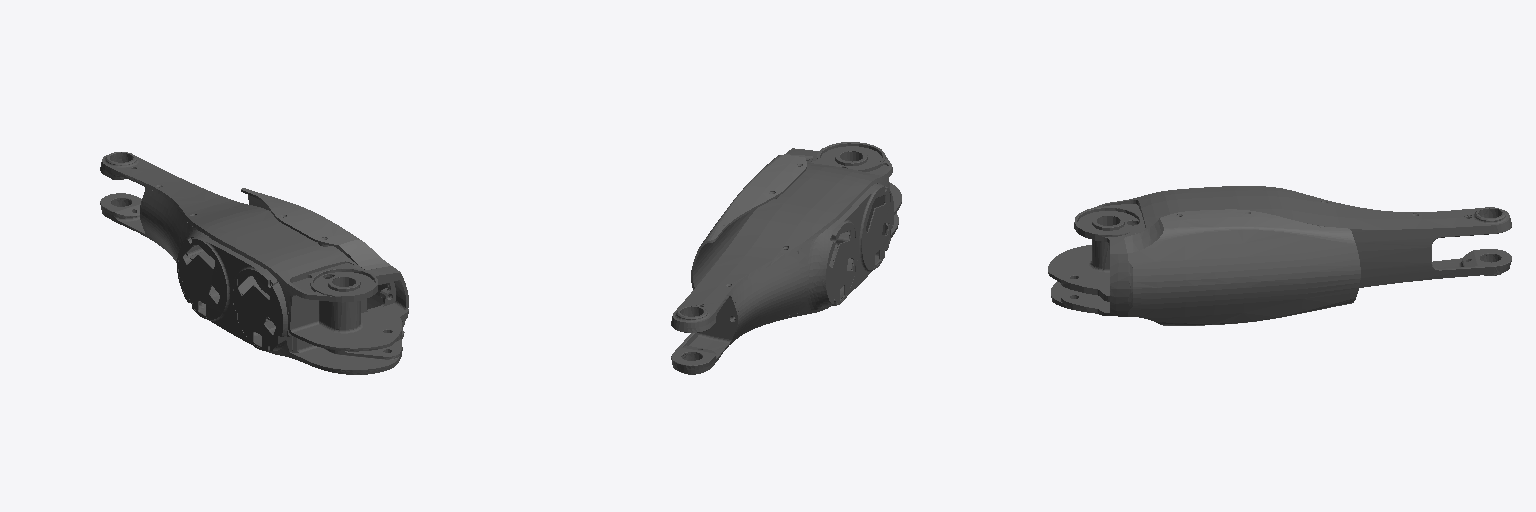
3 renders of one model, left to right at view 1: azimuth 30°, elevation 25°; view 2: azimuth 150°, elevation 25°; view 3: azimuth 270°, elevation 25°, orthographic.
Parts seen in each view (by area): view 1: leg_l4_link; view 2: leg_l4_link; view 3: leg_l4_link.
Part boxes in pixels (left/top/right/bottom): leg_l4_link: left=100, top=152, right=408, bottom=374; leg_l4_link: left=671, top=142, right=901, bottom=374; leg_l4_link: left=1048, top=186, right=1511, bottom=325.
Size of the model in its own units: 0.138 by 0.0961 by 0.4055.